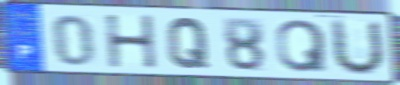0: (49, 13, 99, 67)
8: (221, 16, 268, 73)
H: (102, 14, 159, 71)
Q: (275, 18, 330, 74), (165, 15, 211, 70)
U: (330, 17, 387, 77)
